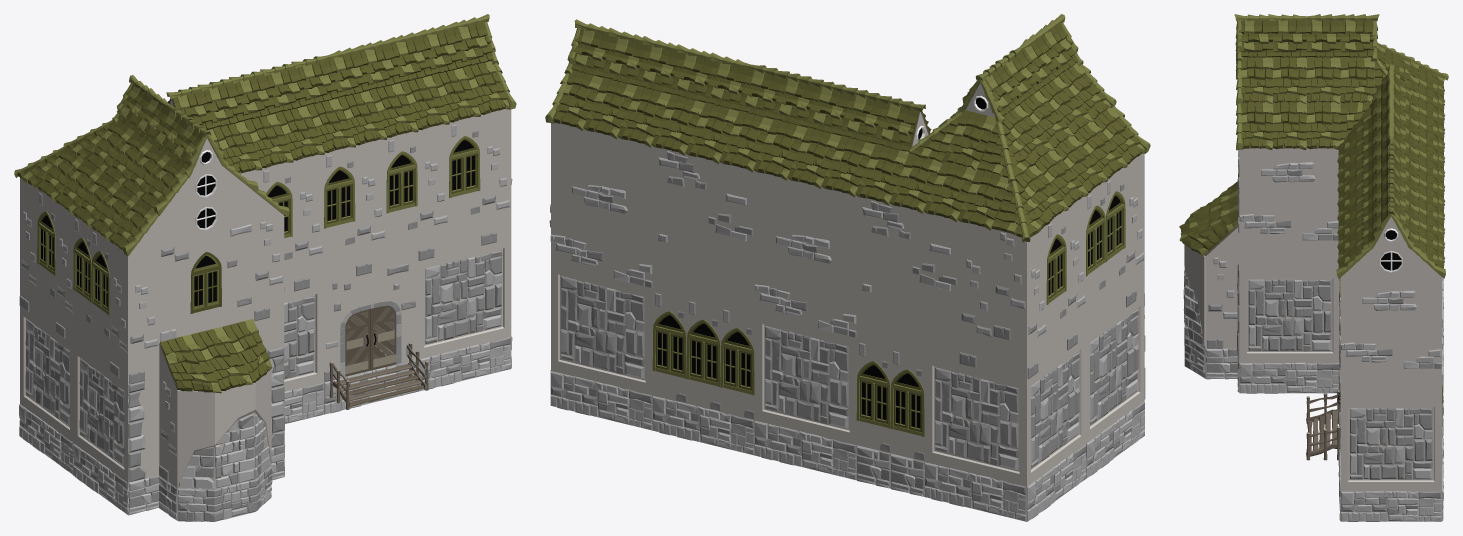
The model's file is HOUSE_17.fbx.
The picture shows the model from 3 angles, left to right: view 1: azimuth 30°, elevation 25°; view 2: azimuth 150°, elevation 25°; view 3: azimuth 270°, elevation 25°; orthographic projection. The views are drawn at different scales.
Parts seen in each view (by area): view 1: WALL_02_4, BALKON_03_2, WINDOW_02_2, DOOR_02_4, ROOF_base_round_2, WALL_02_7, WALL_02_8, WALL_02_3, FOUNDATION_01_2, WALL_06_9, WALL_06_6, WALL_06_7 (+76 smaller); view 2: WALL_02_9, WALL_03_5, WALL_02_10, WALL_02_11, WALL_03_4, WALL_01_3, WALL_01_2, WALL_02_7, WALL_02_8, FOUNDATION_03_10, FOUNDATION_03_8, FOUNDATION_03_9 (+77 smaller); view 3: WALL_02_6, WALL_02_5, WALL_03_3, WALL_03_2, FOUNDATION_03_2, FOUNDATION_03_6, WALL_06_16, ROOF_base_round_2, BALKON_03_2, STAIRS_01_3, ROOF_BASE_26, ROOF_BASE_25 (+49 smaller).
Part boxes in pixels (bbox=[...]): WALL_02_4: bbox=[417, 238, 511, 358]; BALKON_03_2: bbox=[177, 369, 271, 489]; WINDOW_02_2: bbox=[159, 223, 252, 342]; DOOR_02_4: bbox=[324, 261, 417, 381]; ROOF_base_round_2: bbox=[159, 319, 272, 393]; WALL_02_7: bbox=[74, 345, 127, 481]; WALL_02_8: bbox=[20, 306, 73, 442]; WALL_02_3: bbox=[284, 284, 323, 391]; FOUNDATION_01_2: bbox=[177, 465, 272, 521]; WALL_06_9: bbox=[480, 140, 511, 245]; WALL_06_6: bbox=[292, 186, 323, 291]; WALL_06_7: bbox=[355, 170, 386, 276]; WALL_02_9: bbox=[925, 355, 1028, 486]; WALL_03_5: bbox=[754, 206, 856, 337]; WALL_02_10: bbox=[755, 313, 856, 444]; WALL_02_11: bbox=[551, 263, 652, 394]; WALL_03_4: bbox=[550, 157, 652, 288]; WALL_01_3: bbox=[857, 196, 958, 327]; WALL_01_2: bbox=[653, 146, 754, 277]; WALL_02_7: bbox=[1086, 294, 1144, 442]; WALL_02_8: bbox=[1026, 336, 1085, 485]; FOUNDATION_03_10: bbox=[924, 461, 1026, 521]; FOUNDATION_03_8: bbox=[652, 395, 754, 455]; FOUNDATION_03_9: bbox=[754, 420, 856, 480]; WALL_02_6: bbox=[1239, 270, 1339, 362]; WALL_02_5: bbox=[1340, 399, 1441, 490]; WALL_03_3: bbox=[1340, 277, 1441, 368]; WALL_03_2: bbox=[1239, 148, 1338, 240]; FOUNDATION_03_2: bbox=[1239, 362, 1339, 393]; FOUNDATION_03_6: bbox=[1340, 491, 1441, 521]; WALL_06_16: bbox=[1205, 256, 1239, 348]; ROOF_base_round_2: bbox=[1179, 181, 1239, 256]; BALKON_03_2: bbox=[1183, 244, 1205, 347]; STAIRS_01_3: bbox=[1306, 390, 1340, 460]; ROOF_BASE_26: bbox=[1272, 101, 1306, 149]; ROOF_BASE_25: bbox=[1306, 101, 1340, 149].
Bounding box in the file's own units: 1428 × 1120 × 799.
